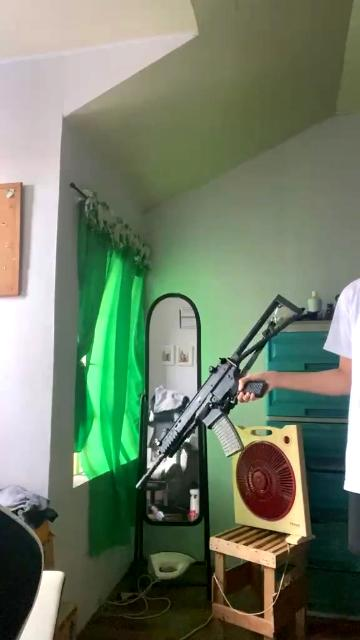rifle: (130, 282, 304, 500)
